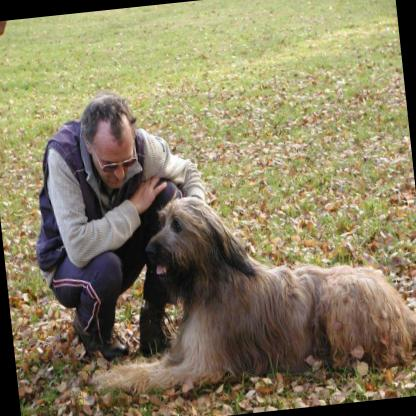Bouvier_des_Flandres: (68, 168, 416, 398)
